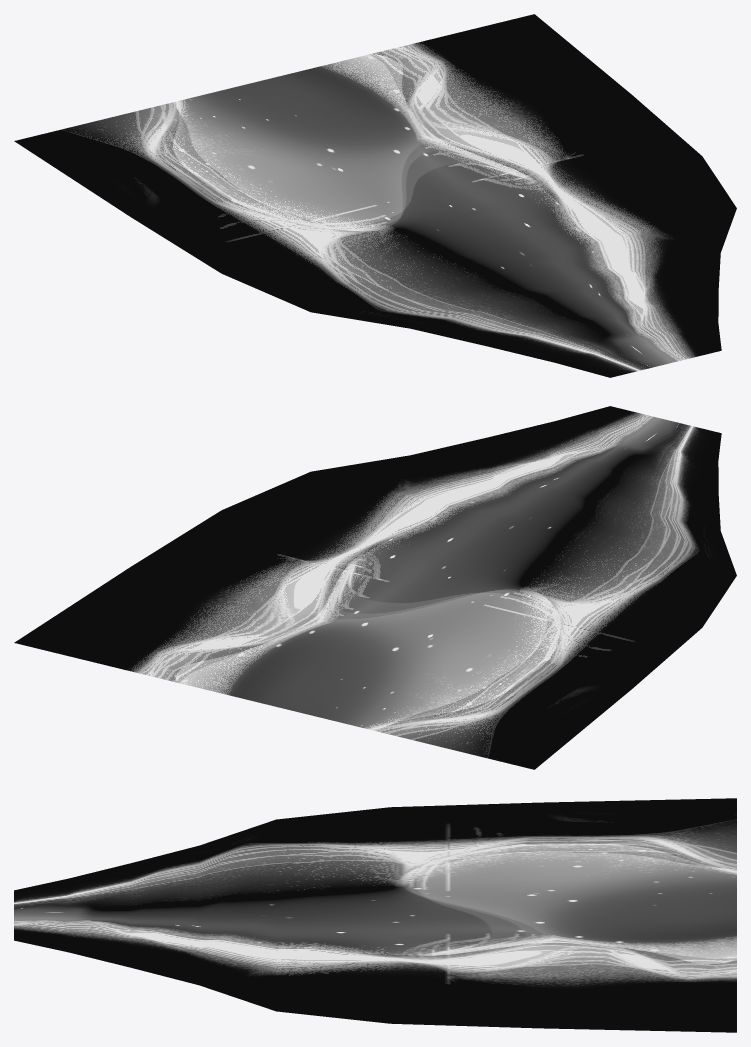
Rendered from Ef_Trail_Bend_03.FBX.
The picture shows the model from 3 angles, top to bottom: view 1: azimuth 30°, elevation 25°; view 2: azimuth 150°, elevation 25°; view 3: azimuth 270°, elevation 25°; orthographic projection. The views are drawn at different scales.
Parts seen in each view (by area): view 1: Ef_Trail_Bend_03; view 2: Ef_Trail_Bend_03; view 3: Ef_Trail_Bend_03.
Boxes of the visible parts, left/top/right/bottom form: Ef_Trail_Bend_03: left=14, top=14, right=736, bottom=377; Ef_Trail_Bend_03: left=14, top=406, right=736, bottom=769; Ef_Trail_Bend_03: left=14, top=798, right=736, bottom=1032.
Bounding box in the file's own units: 95.89 × 125 × 0.
Materials: 1 (1 with a texture image).
